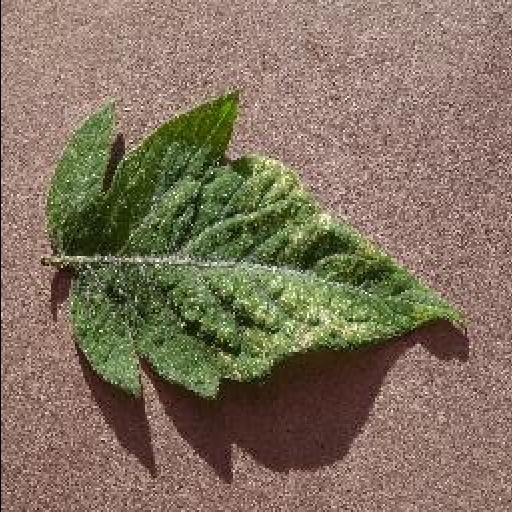disease_tomato: (44, 88, 462, 400)
